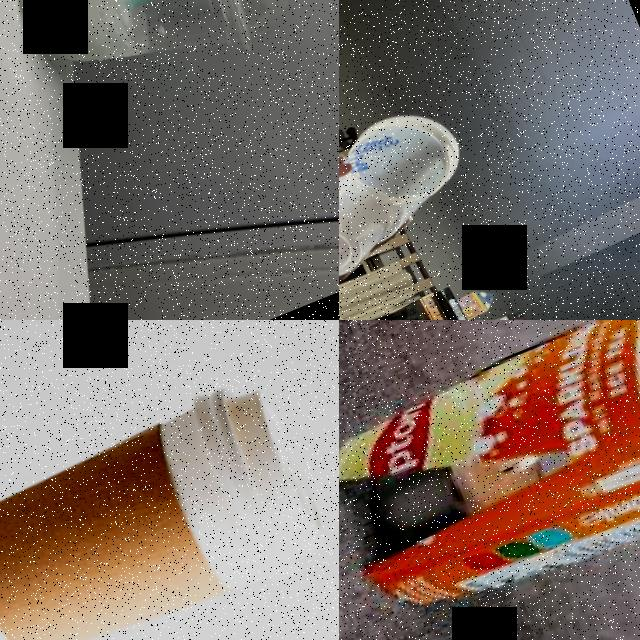cup: (0, 362, 339, 640), (0, 0, 315, 131), (339, 94, 486, 292)
